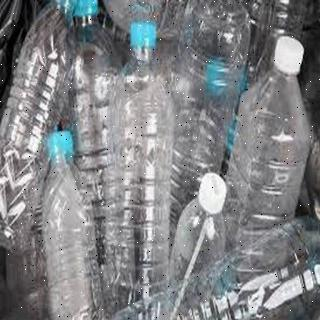Plastic-bottle: (225, 36, 312, 292), (1, 1, 78, 253), (109, 19, 171, 293), (40, 131, 104, 320)
